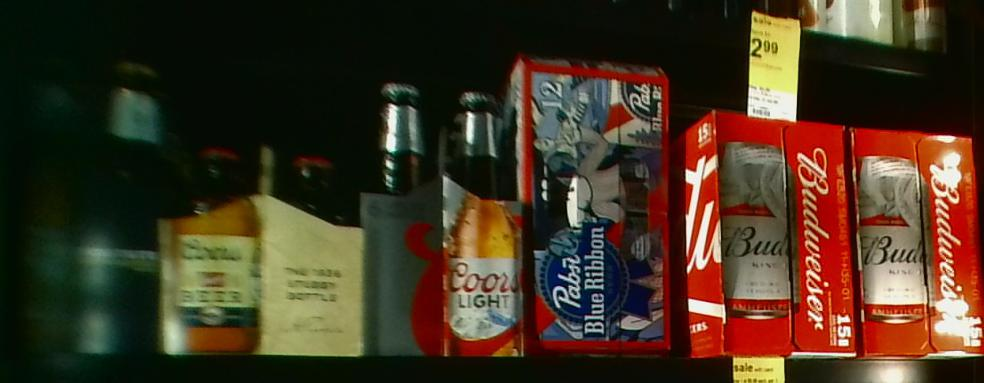bottle: (163, 99, 372, 357), (368, 49, 526, 362), (672, 114, 855, 358), (527, 55, 671, 359), (852, 124, 984, 359)
